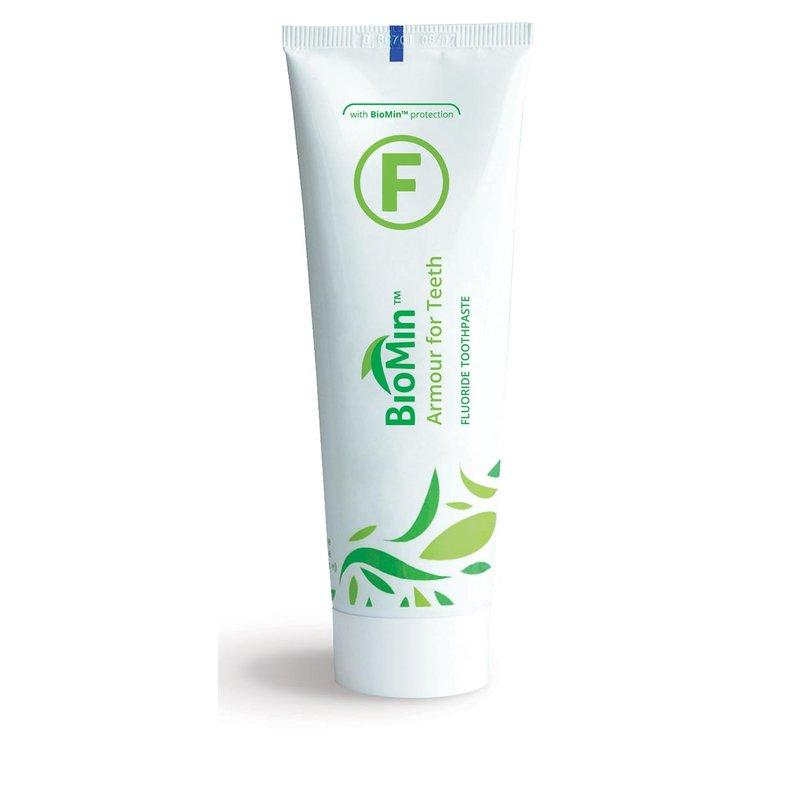toothpaste: (265, 8, 564, 710)
